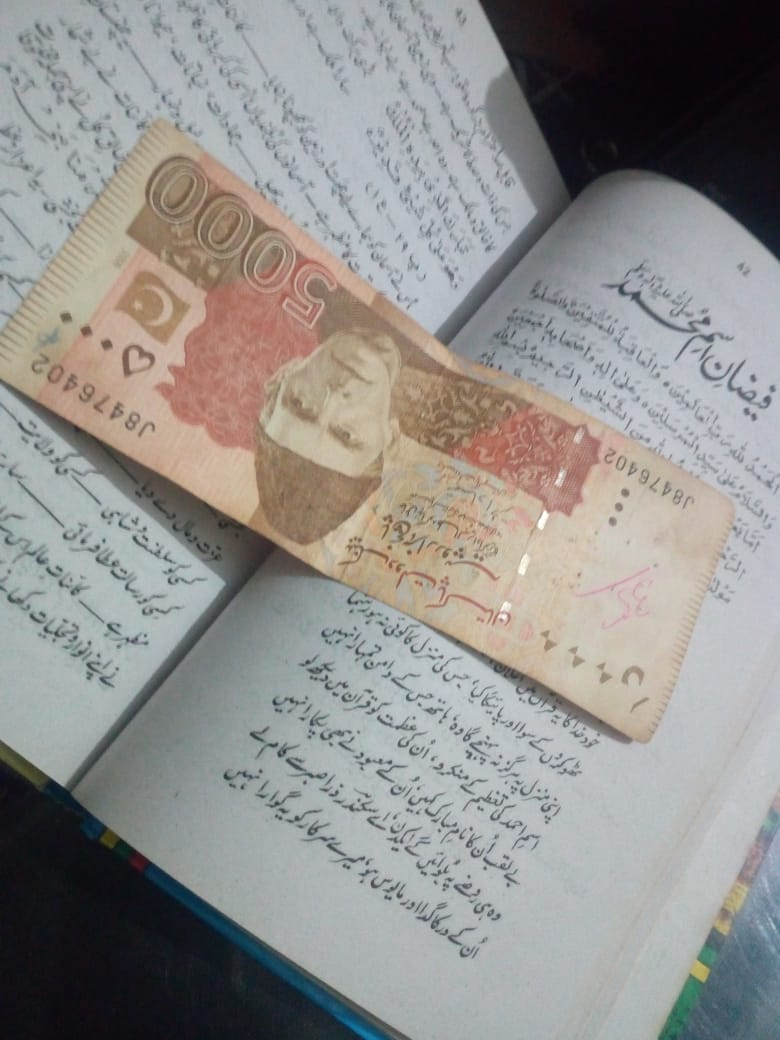5000 rupee: (25, 119, 717, 741)
